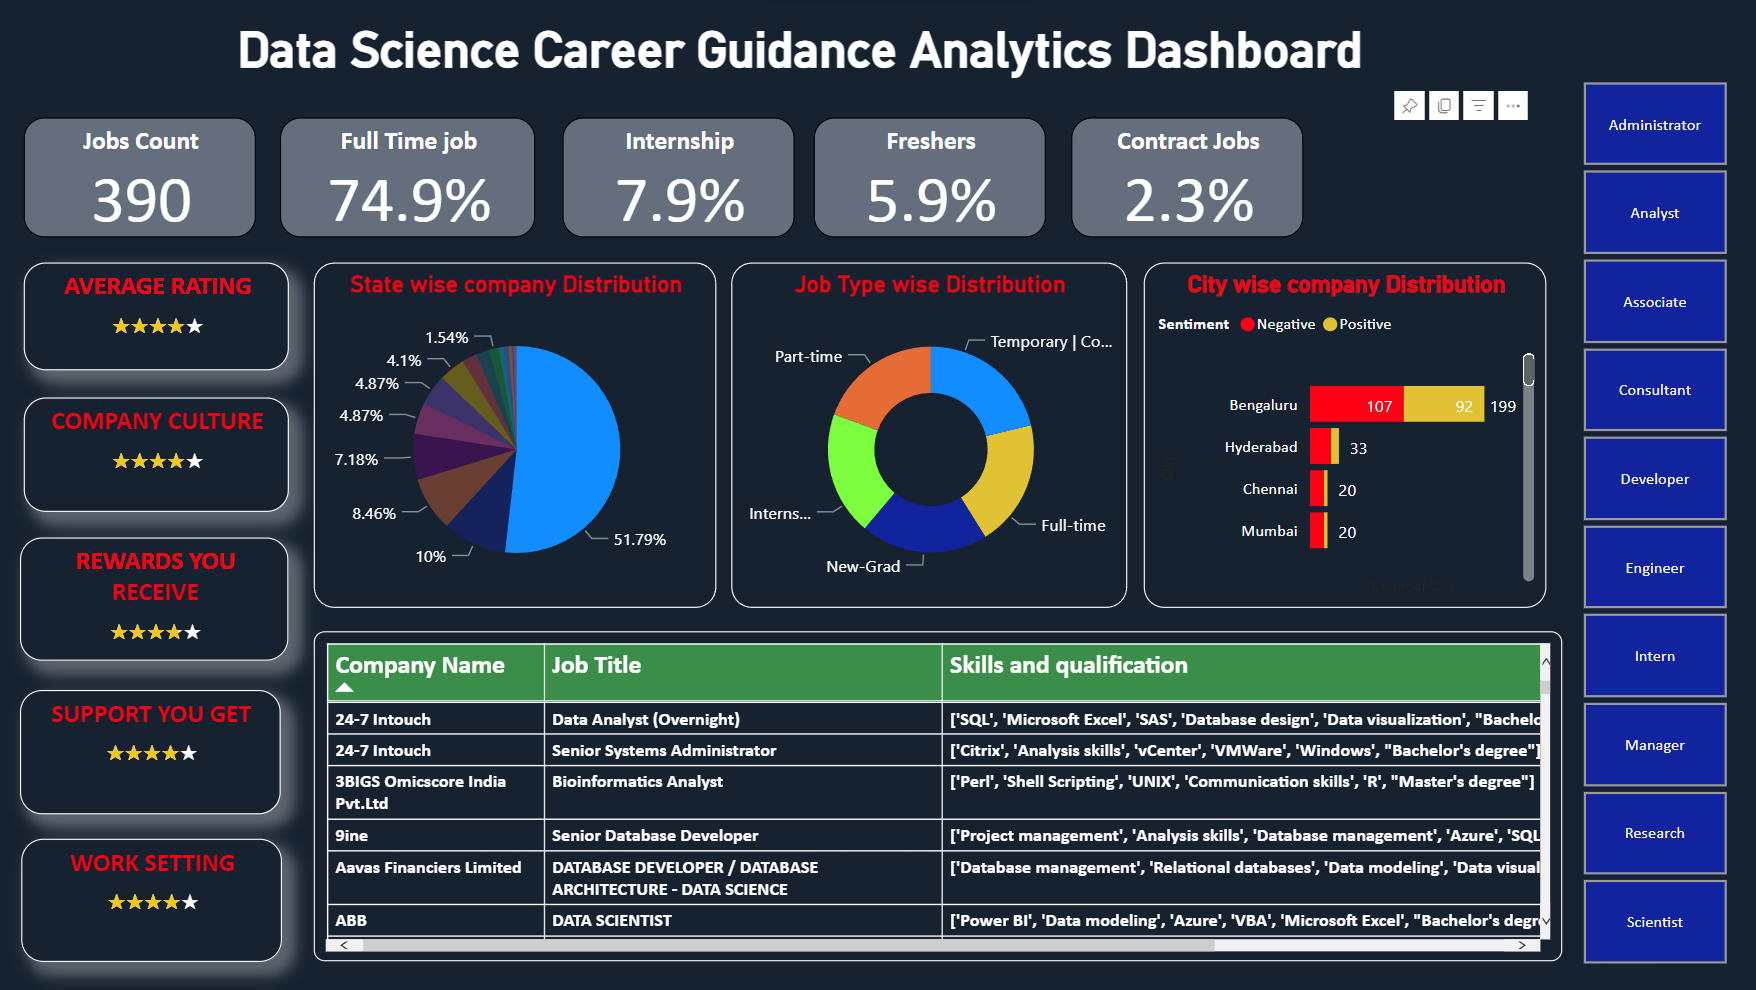

What the dashboard file says about the page in this screenshot:
{"tool":"powerbi","page":{"name":"Page 1","canvas":[1280,720],"ordinal":0},"visuals":[{"type":"ratingsvisual001","title":"AVERAGE RATING","fields":{"measure":["MyTable.avg_rating_list"]},"box":[16.9,190.6,193,78.4],"z":0},{"type":"ratingsvisual001","title":"COMPANY CULTURE","fields":{"measure":["MyTable.company_culture"]},"box":[16.9,289.4,193,83.2],"z":1000},{"type":"ratingsvisual001","title":"REWARDS YOU RECEIVE","fields":{"measure":["MyTable.rewards_you_receive"]},"box":[14.5,390.8,195.4,89.2],"z":2000},{"type":"ratingsvisual001","title":"SUPPORT YOU GET","fields":{"measure":["MyTable.Support_you_get"]},"box":[14.5,501.7,189.3,90.5],"z":3000},{"type":"ratingsvisual001","title":"WORK SETTING","fields":{"measure":["MyTable.work_setting"]},"box":[15.7,610.3,189.3,89.2],"z":4000},{"type":"card","title":"Internship","fields":{"Values":["MyTable.intern count %"]},"box":[408.8,85.6,168.8,86.8],"z":5000},{"type":"card","title":"Full Time job","fields":{"Values":["MyTable.full time count %"]},"box":[203.8,85.6,185.7,86.8],"z":6000},{"type":"card","fields":{"Values":["MyTable.Text Measure"]},"box":[52.9,0,1058.6,65.7],"z":7000},{"type":"slicer","fields":{"Values":["dashbaord_data.Designation"]},"box":[1125.2,53.1,154.4,654.9],"z":8000},{"type":"pieChart","title":"State wise company Distribution","fields":{"Category":["dashbaord_data.State"],"Y":["CountNonNull(dashbaord_data.City)"]},"box":[227.9,190.6,293.1,250.9],"z":9000},{"type":"barChart","title":"City wise company Distribution","fields":{"Category":["dashbaord_data.City"],"Y":["CountNonNull(dashbaord_data.City)"],"Series":["dashbaord_data.Sentiment"]},"box":[832.2,190.6,293.1,250.9],"z":10000},{"type":"tableEx","fields":{"Values":["dashbaord_data.company_name","dashbaord_data.Job_title","dashbaord_data.qualification"]},"box":[227.9,459.5,908.1,240],"z":11000},{"type":"card","title":"Freshers","fields":{"Values":["MyTable.new grad count %"]},"box":[592.2,85.6,168.8,86.8],"z":12000},{"type":"card","title":"Contract Jobs","fields":{"Values":["MyTable.contract count %"]},"box":[779.1,85.6,168.8,86.8],"z":13000},{"type":"card","title":"Jobs Count","fields":{"Values":["MyTable.designation"]},"box":[16.9,85.6,168.8,86.8],"z":14000},{"type":"donutChart","title":"Job Type wise Distribution","fields":{"Category":["dashbaord_data.job_type"],"Y":["Median(dashbaord_data.final_rating)"]},"box":[531.9,190.6,288.2,250.9],"z":15000}]}

Visuals, with their boxes in screenshot pixels (x1, y1, x2, y2), scaled from the page's 1280x720 canvas onto the 1756x990 screenshot:
"AVERAGE RATING" ratingsvisual001: locate(23, 262, 288, 370)
"COMPANY CULTURE" ratingsvisual001: locate(23, 398, 288, 512)
"REWARDS YOU RECEIVE" ratingsvisual001: locate(20, 537, 288, 660)
"SUPPORT YOU GET" ratingsvisual001: locate(20, 690, 280, 814)
"WORK SETTING" ratingsvisual001: locate(22, 839, 281, 962)
"Internship" card: locate(561, 118, 792, 237)
"Full Time job" card: locate(280, 118, 534, 237)
card - MyTable.Text Measure: locate(73, 0, 1525, 90)
slicer - dashbaord_data.Designation: locate(1544, 73, 1755, 974)
"State wise company Distribution" pieChart: locate(313, 262, 715, 607)
"City wise company Distribution" barChart: locate(1142, 262, 1544, 607)
tableEx - dashbaord_data.company_name x dashbaord_data.Job_title: locate(313, 632, 1558, 962)
"Freshers" card: locate(812, 118, 1044, 237)
"Contract Jobs" card: locate(1069, 118, 1300, 237)
"Jobs Count" card: locate(23, 118, 255, 237)
"Job Type wise Distribution" donutChart: locate(730, 262, 1125, 607)
